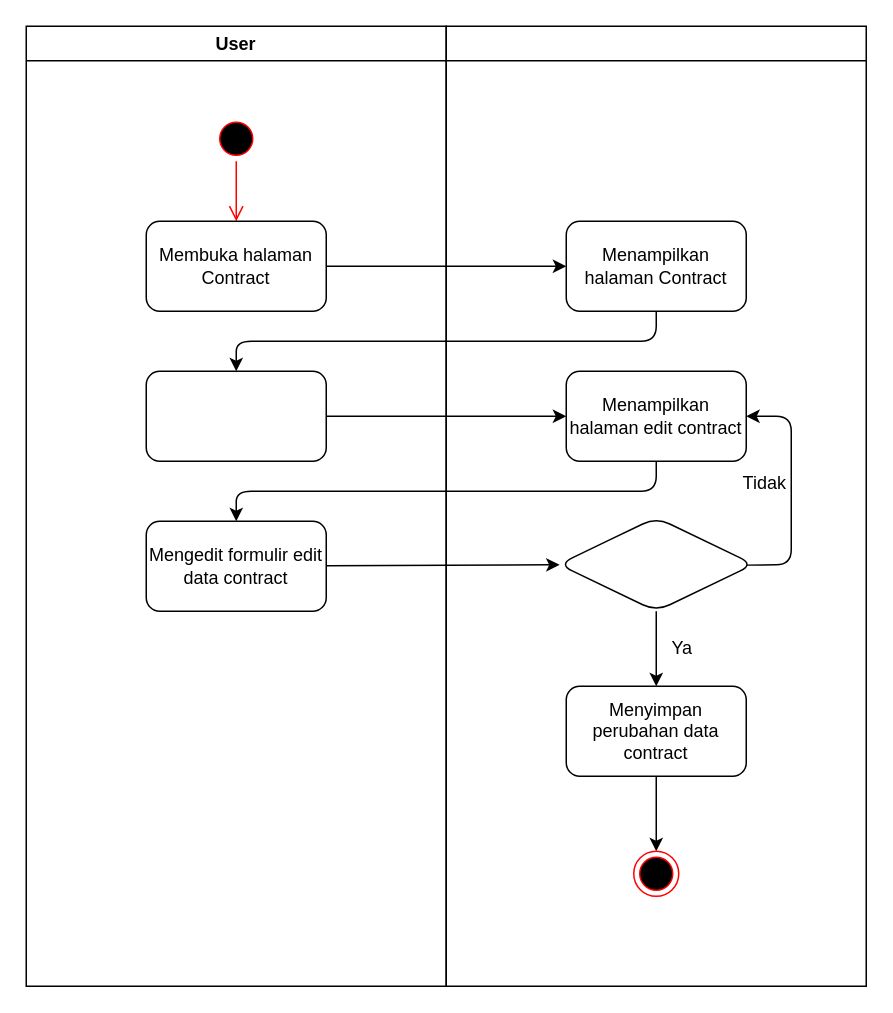
Some shapes in this 893 by 1013 pixel diagram are drawn without their labels. Each missing label, with the box of its shape:
Pilih tombol tambah pensil (edit) pada salah satu data: (145, 370, 326, 461)
Sistem: (445, 25, 866, 986)
Validasi data: (557, 516, 754, 611)
